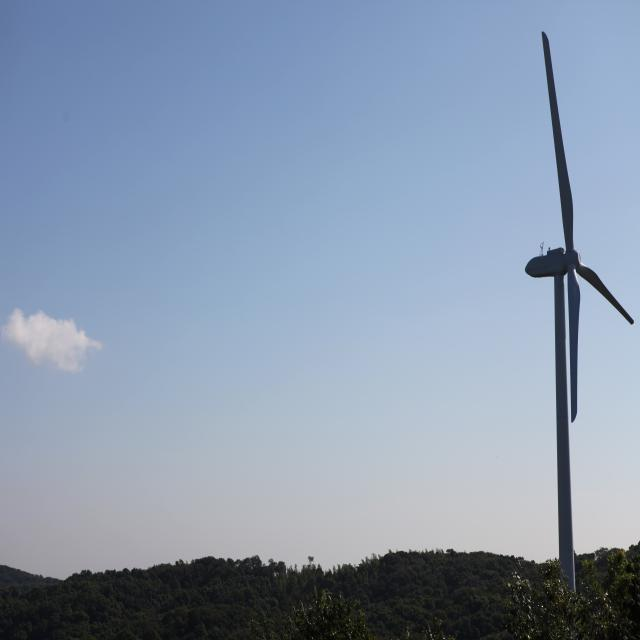bird: (496, 454, 500, 459)
